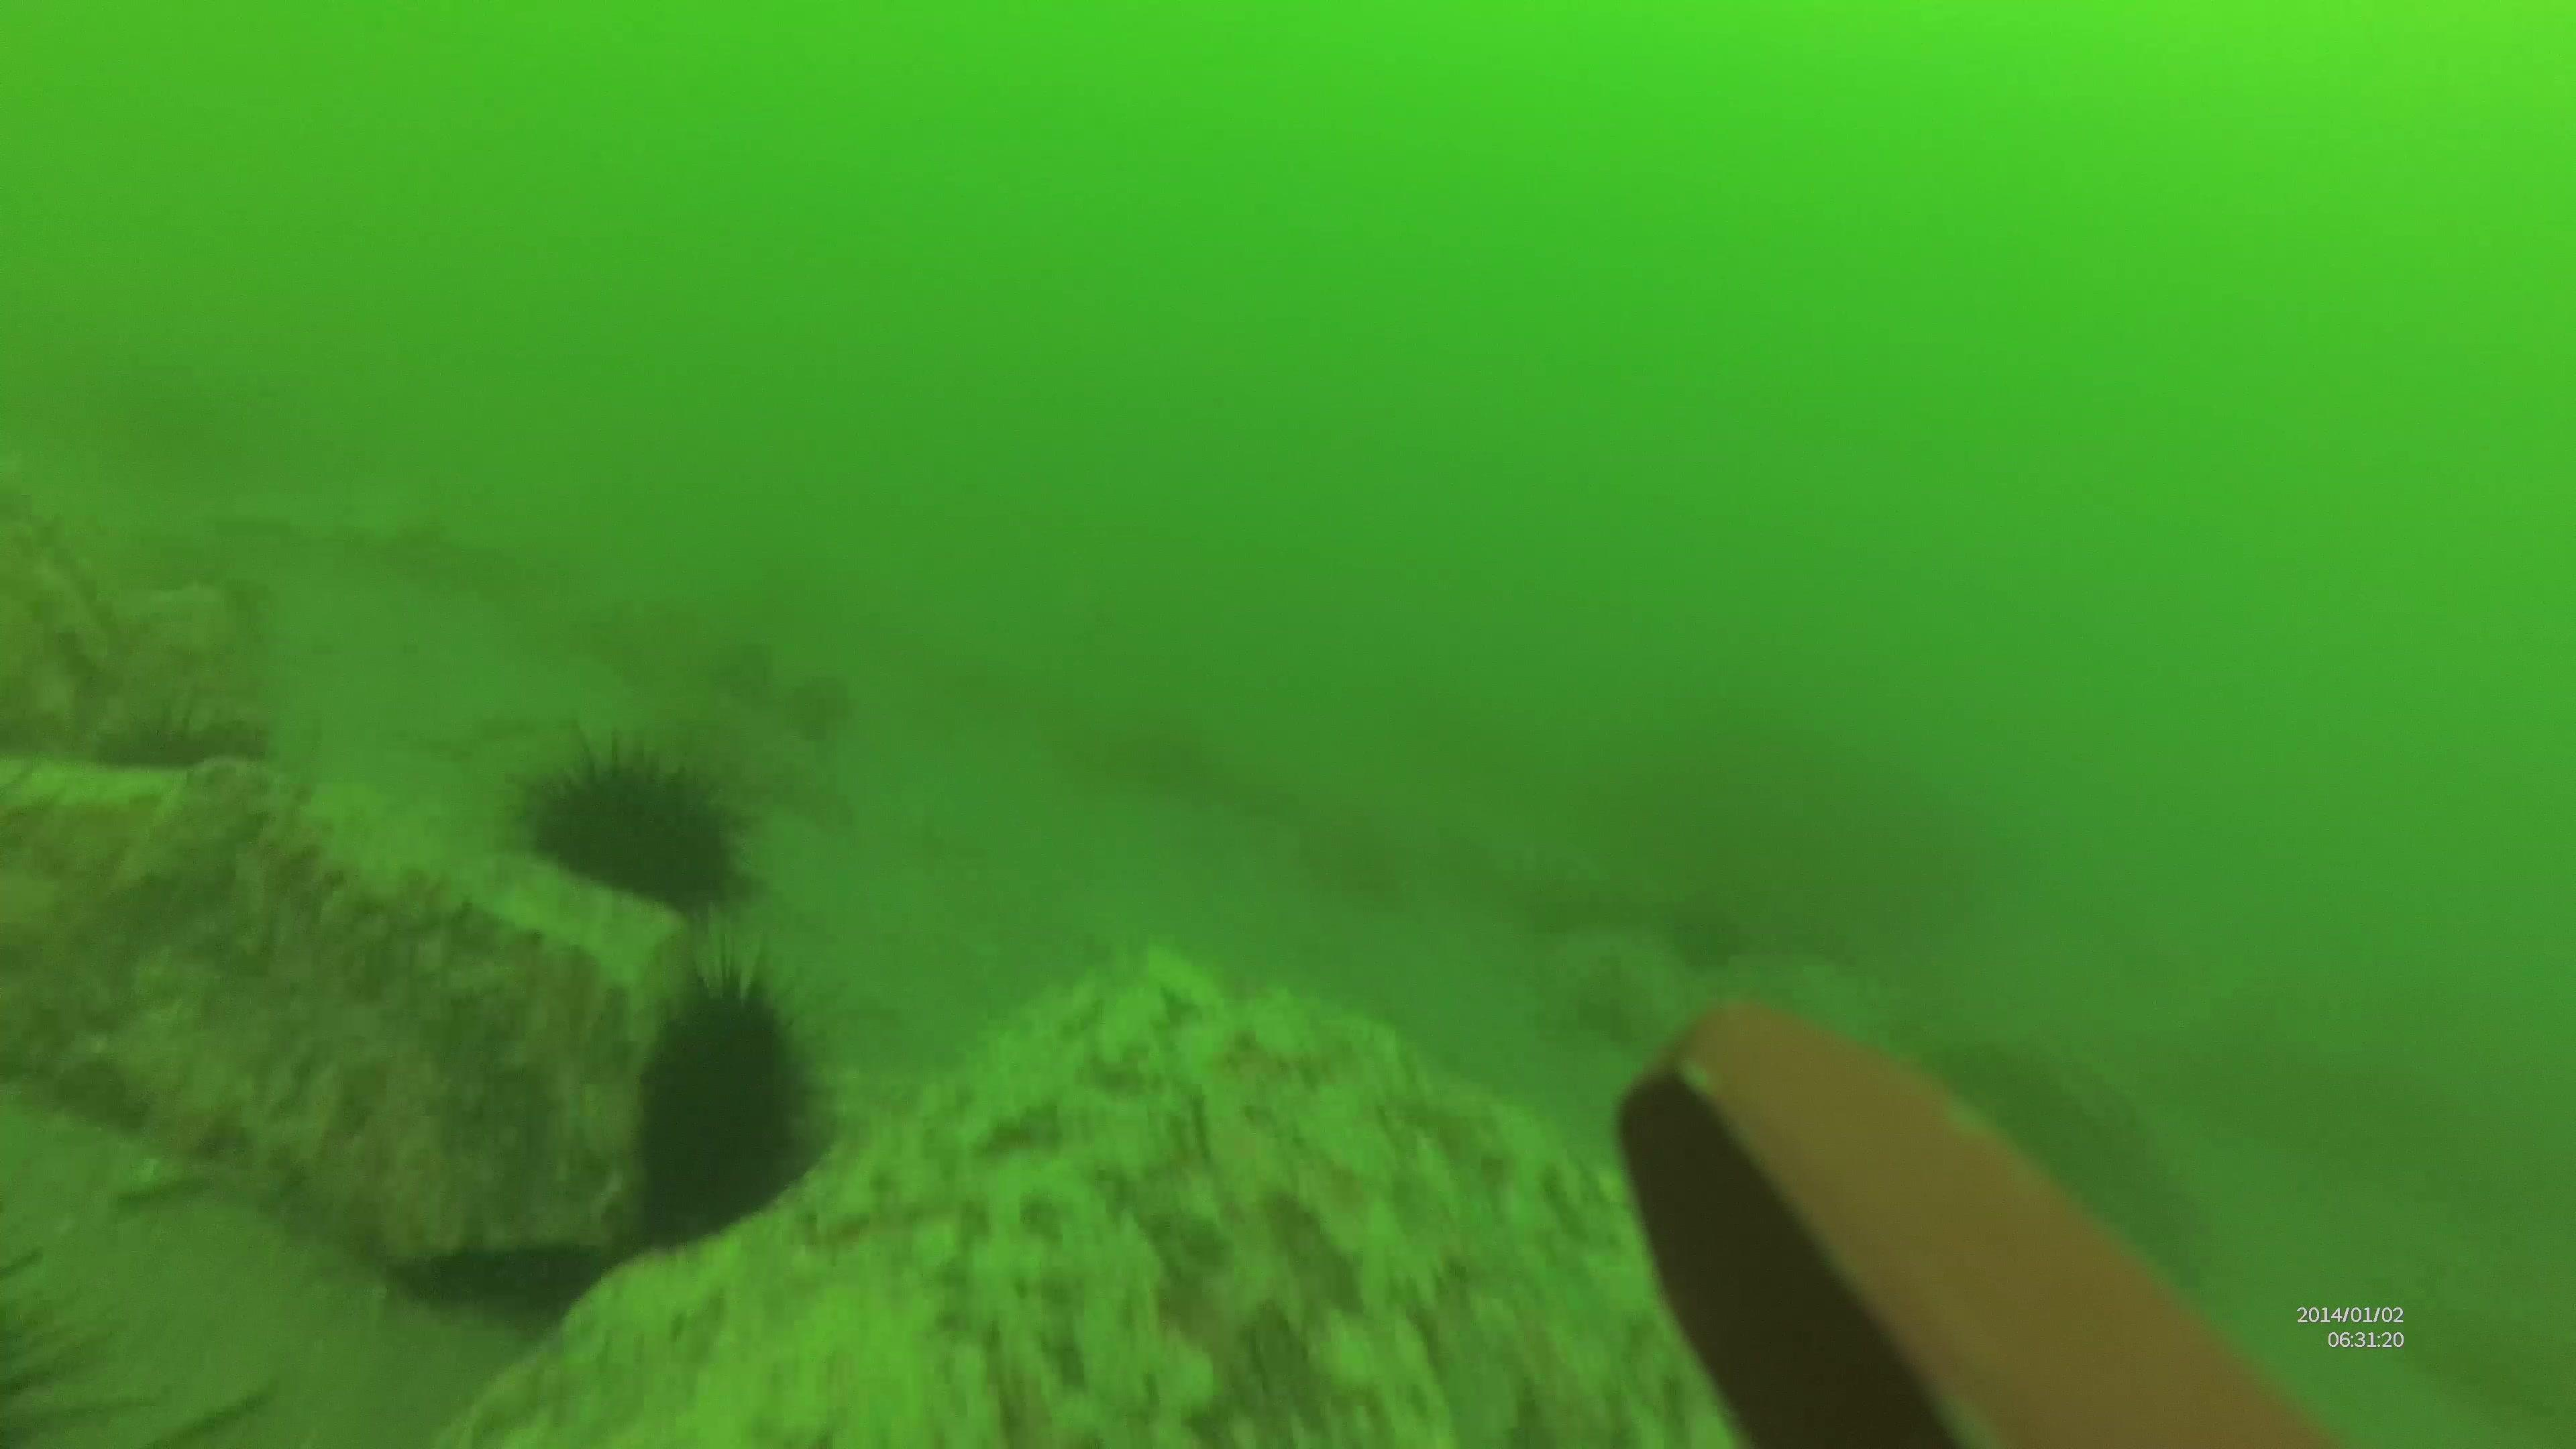echinus: (584, 948, 839, 1246), (506, 718, 761, 938), (92, 699, 269, 860)
